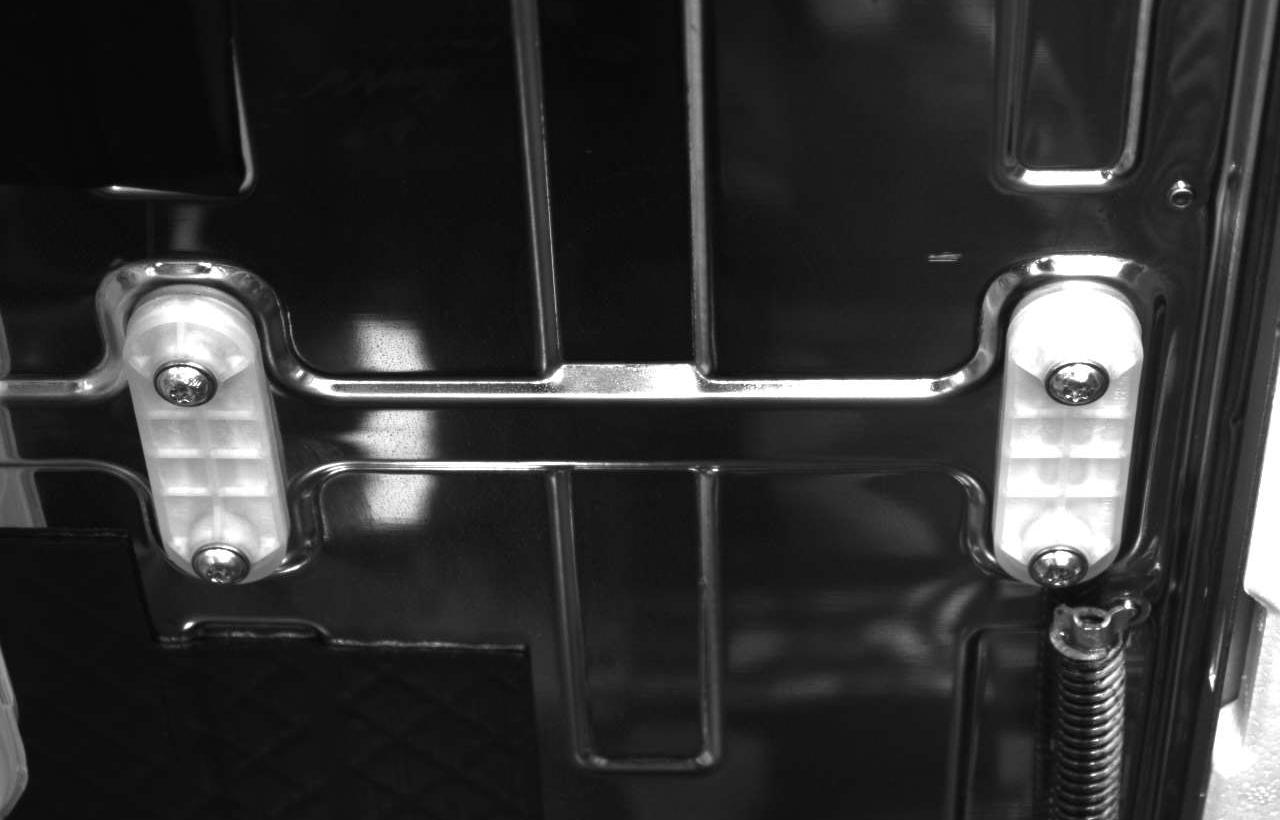vida-ok: (151, 354, 223, 421), (1043, 349, 1110, 417), (1031, 532, 1097, 591), (190, 531, 256, 589)
